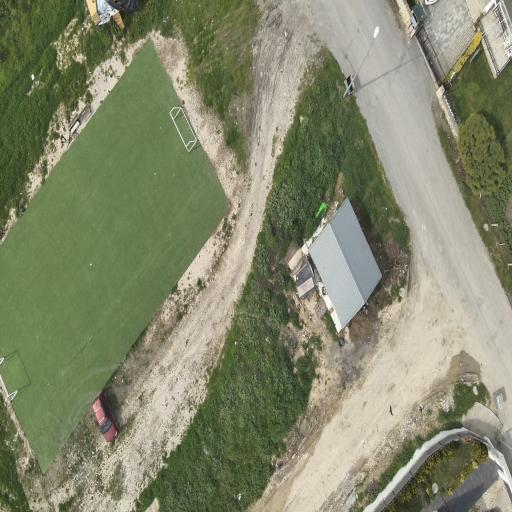car: (93, 392, 117, 442)
